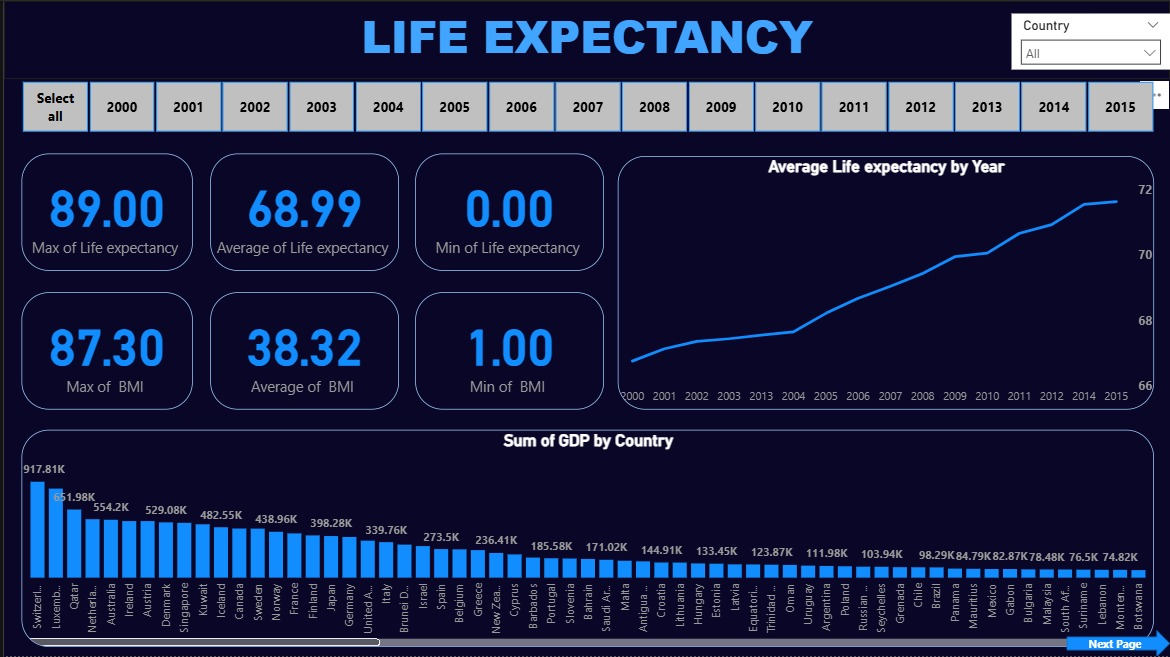

What the dashboard file says about the page in this screenshot:
{"tool":"powerbi","page":{"name":"expectancy","canvas":[1280,720],"ordinal":0},"visuals":[{"type":"textbox","box":[0,0,1280.3,86.4],"z":0},{"type":"slicer","fields":{"Values":["Life Expectancy Data.Year"]},"box":[0,86.4,1280.3,59],"z":1000},{"type":"slicer","fields":{"Values":["Life Expectancy Data.Country"]},"box":[1106,13.7,174.3,61.7],"z":2000},{"type":"card","fields":{"Values":["Max(Life Expectancy Data.Life expectancy )"]},"box":[19.2,167.4,188,129],"z":3000},{"type":"card","fields":{"Values":["Avg(Life Expectancy Data.Life expectancy )"]},"box":[226.4,167.4,207.2,129],"z":4000},{"type":"card","fields":{"Values":["Min(Life Expectancy Data.Life expectancy )"]},"box":[451.5,167.4,207.2,129],"z":5000},{"type":"card","fields":{"Values":["Max(Life Expectancy Data. BMI )"]},"box":[19.2,319.7,188,129],"z":6000},{"type":"card","fields":{"Values":["Avg(Life Expectancy Data. BMI )"]},"box":[226.4,319.7,207.2,129],"z":7000},{"type":"card","fields":{"Values":["Min(Life Expectancy Data. BMI )"]},"box":[451.5,319.7,207.2,129],"z":8000},{"type":"lineChart","title":"Average Life expectancy  by Year","fields":{"Category":["Life Expectancy Data.Year"],"Y":["Avg(Life Expectancy Data.Life expectancy )"]},"box":[673.8,170.2,588.7,278.6],"z":9000},{"type":"columnChart","fields":{"Category":["Life Expectancy Data.Country"],"Y":["Sum(Life Expectancy Data.GDP)"]},"box":[19.2,470.7,1243.2,238.8],"z":10000},{"type":"shape","box":[1166.4,690.2,113.9,30.2],"z":11000}]}

Visuals, with their boxes in screenshot pixels (x1, y1, x2, y2), scaled from the page's 1280x720 canvas onto the 1170x657 screenshot:
textbox: (left=0, top=0, right=1169, bottom=79)
slicer - Life Expectancy Data.Year: (left=0, top=79, right=1169, bottom=133)
slicer - Life Expectancy Data.Country: (left=1011, top=13, right=1169, bottom=69)
card - Max(Life Expectancy Data.Life expectancy ): (left=18, top=153, right=189, bottom=270)
card - Avg(Life Expectancy Data.Life expectancy ): (left=207, top=153, right=396, bottom=270)
card - Min(Life Expectancy Data.Life expectancy ): (left=413, top=153, right=602, bottom=270)
card - Max(Life Expectancy Data. BMI ): (left=18, top=292, right=189, bottom=409)
card - Avg(Life Expectancy Data. BMI ): (left=207, top=292, right=396, bottom=409)
card - Min(Life Expectancy Data. BMI ): (left=413, top=292, right=602, bottom=409)
"Average Life expectancy  by Year" lineChart: (left=616, top=155, right=1154, bottom=410)
columnChart - Life Expectancy Data.Country x Sum(Life Expectancy Data.GDP): (left=18, top=430, right=1154, bottom=647)
shape: (left=1066, top=630, right=1169, bottom=656)
